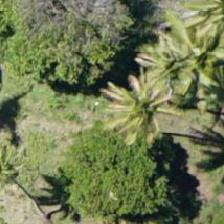coconut_tree: (0, 115, 48, 205)
